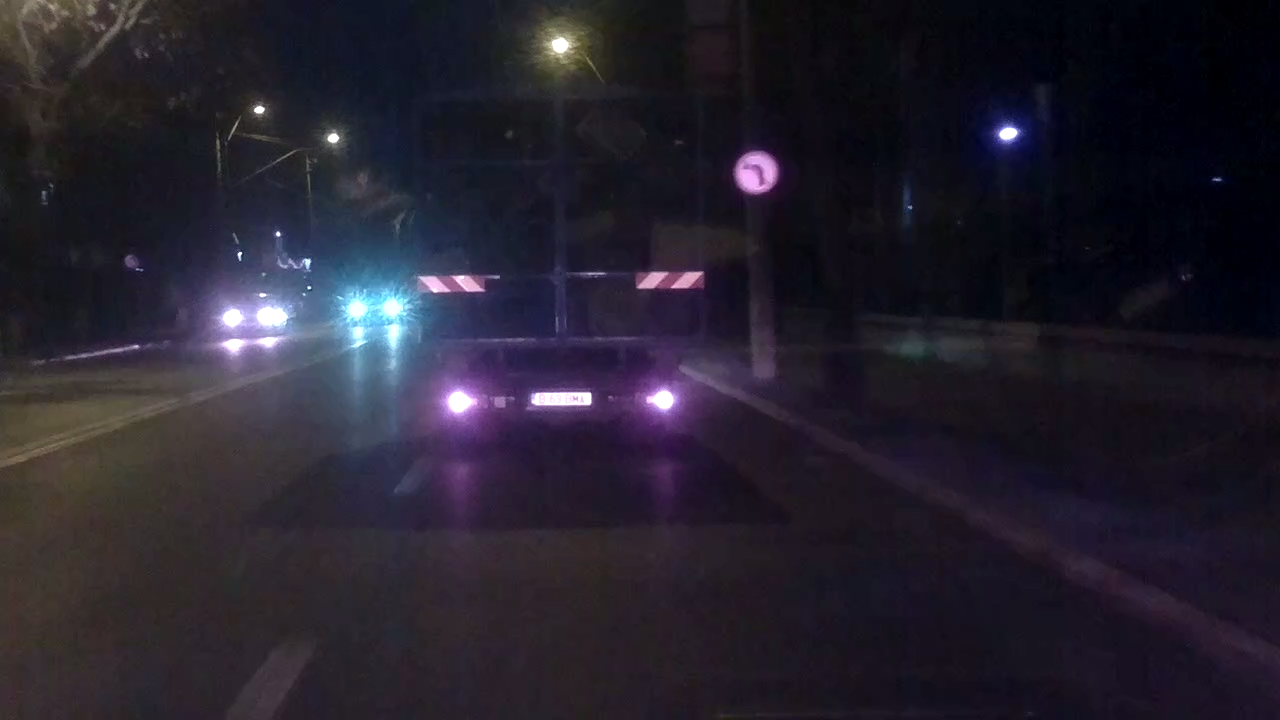license-plate: (527, 388, 593, 408)
